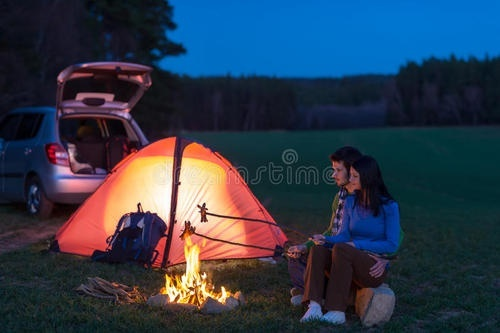fire: (160, 235, 232, 307)
